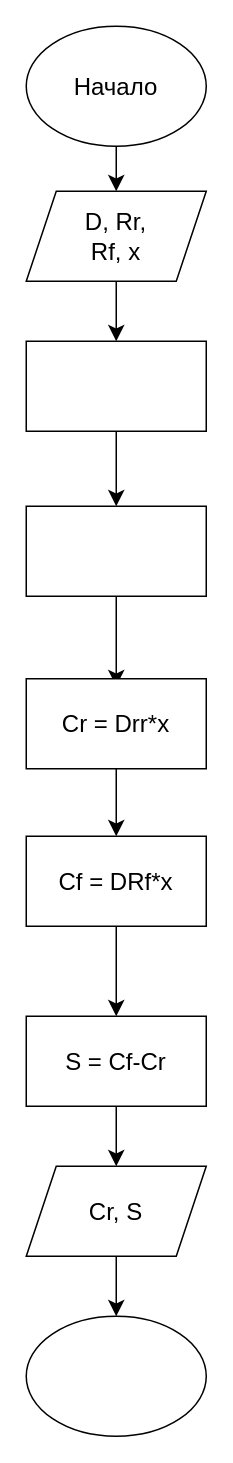
Image size: 233x1463. Some labels were removed from this diagram. The centre of each missing label's shape, as x and y in pixels:
Drf = D/Rf: the point at 115,550
Drr = D/Rr: the point at 115,385
Конец: the point at 115,1375
